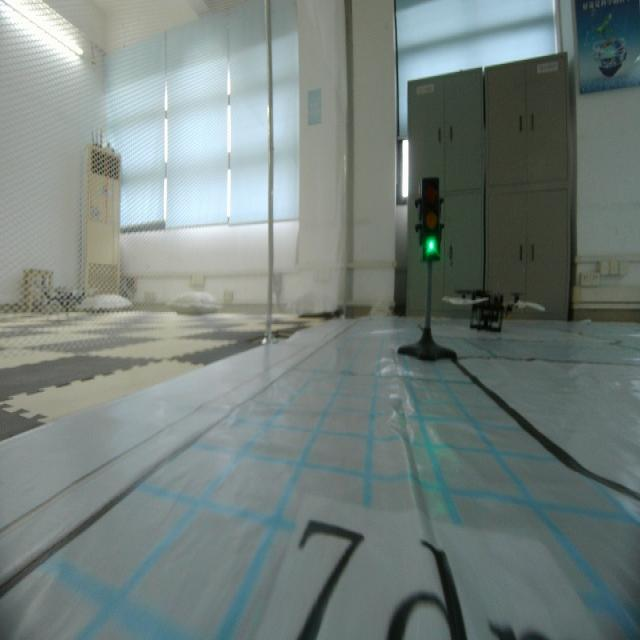green: (406, 177, 450, 268)
